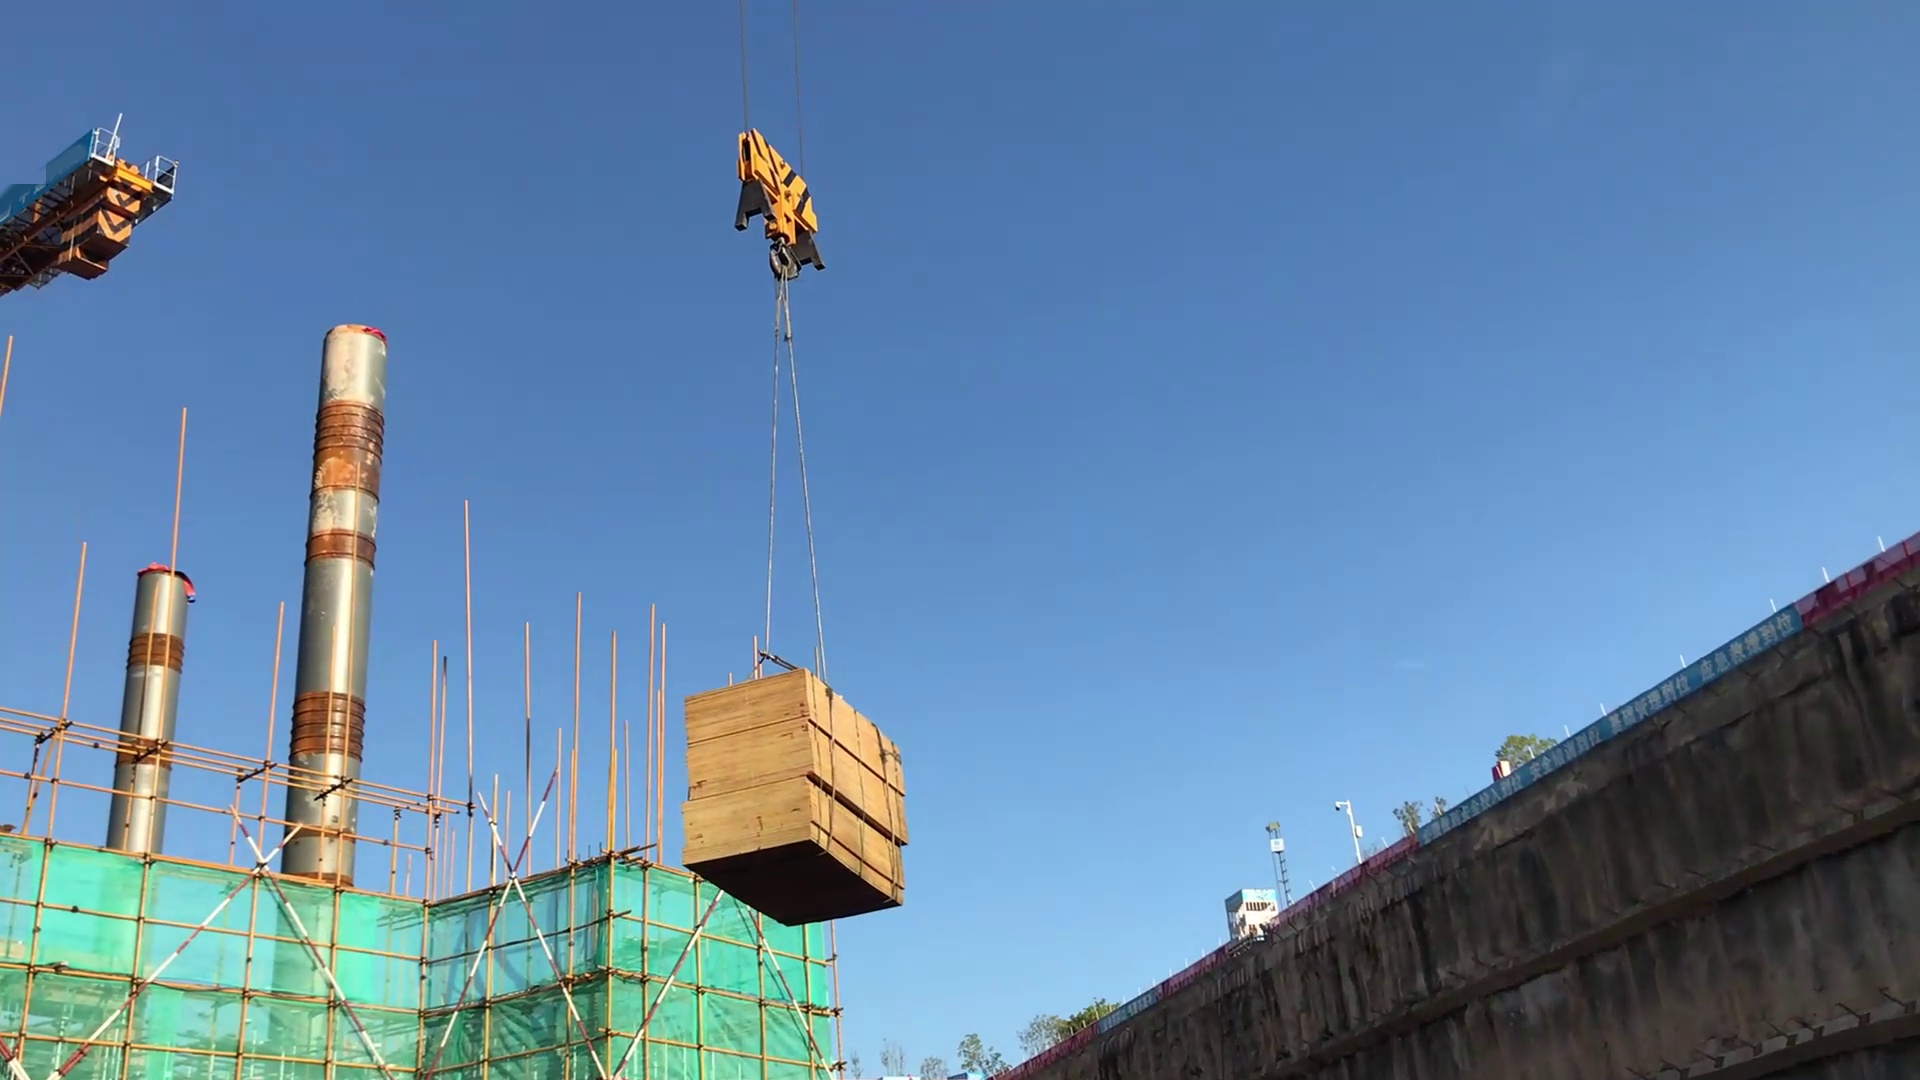board: (673, 676, 919, 922)
hook: (700, 102, 877, 469)
slogan: (1408, 592, 1805, 862)
